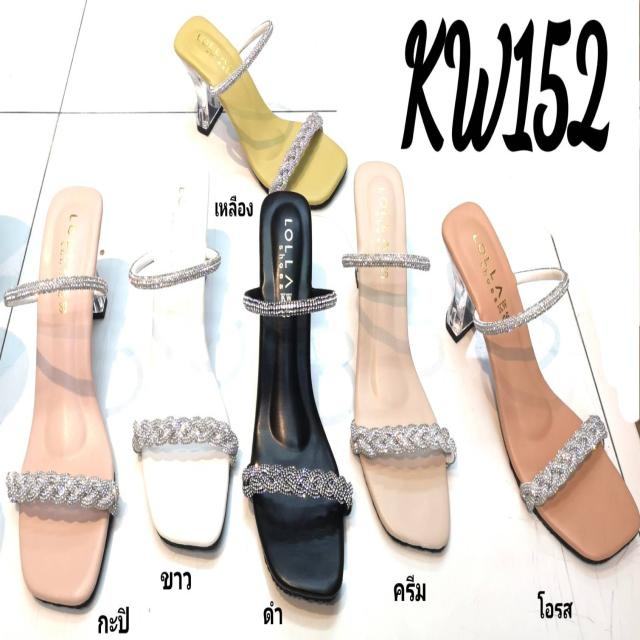black: (249, 192, 346, 603)
cream: (346, 158, 453, 547)
kapi: (12, 177, 113, 608)
orot: (441, 200, 638, 565)
white: (135, 163, 235, 553)
yellow: (173, 15, 348, 207)
